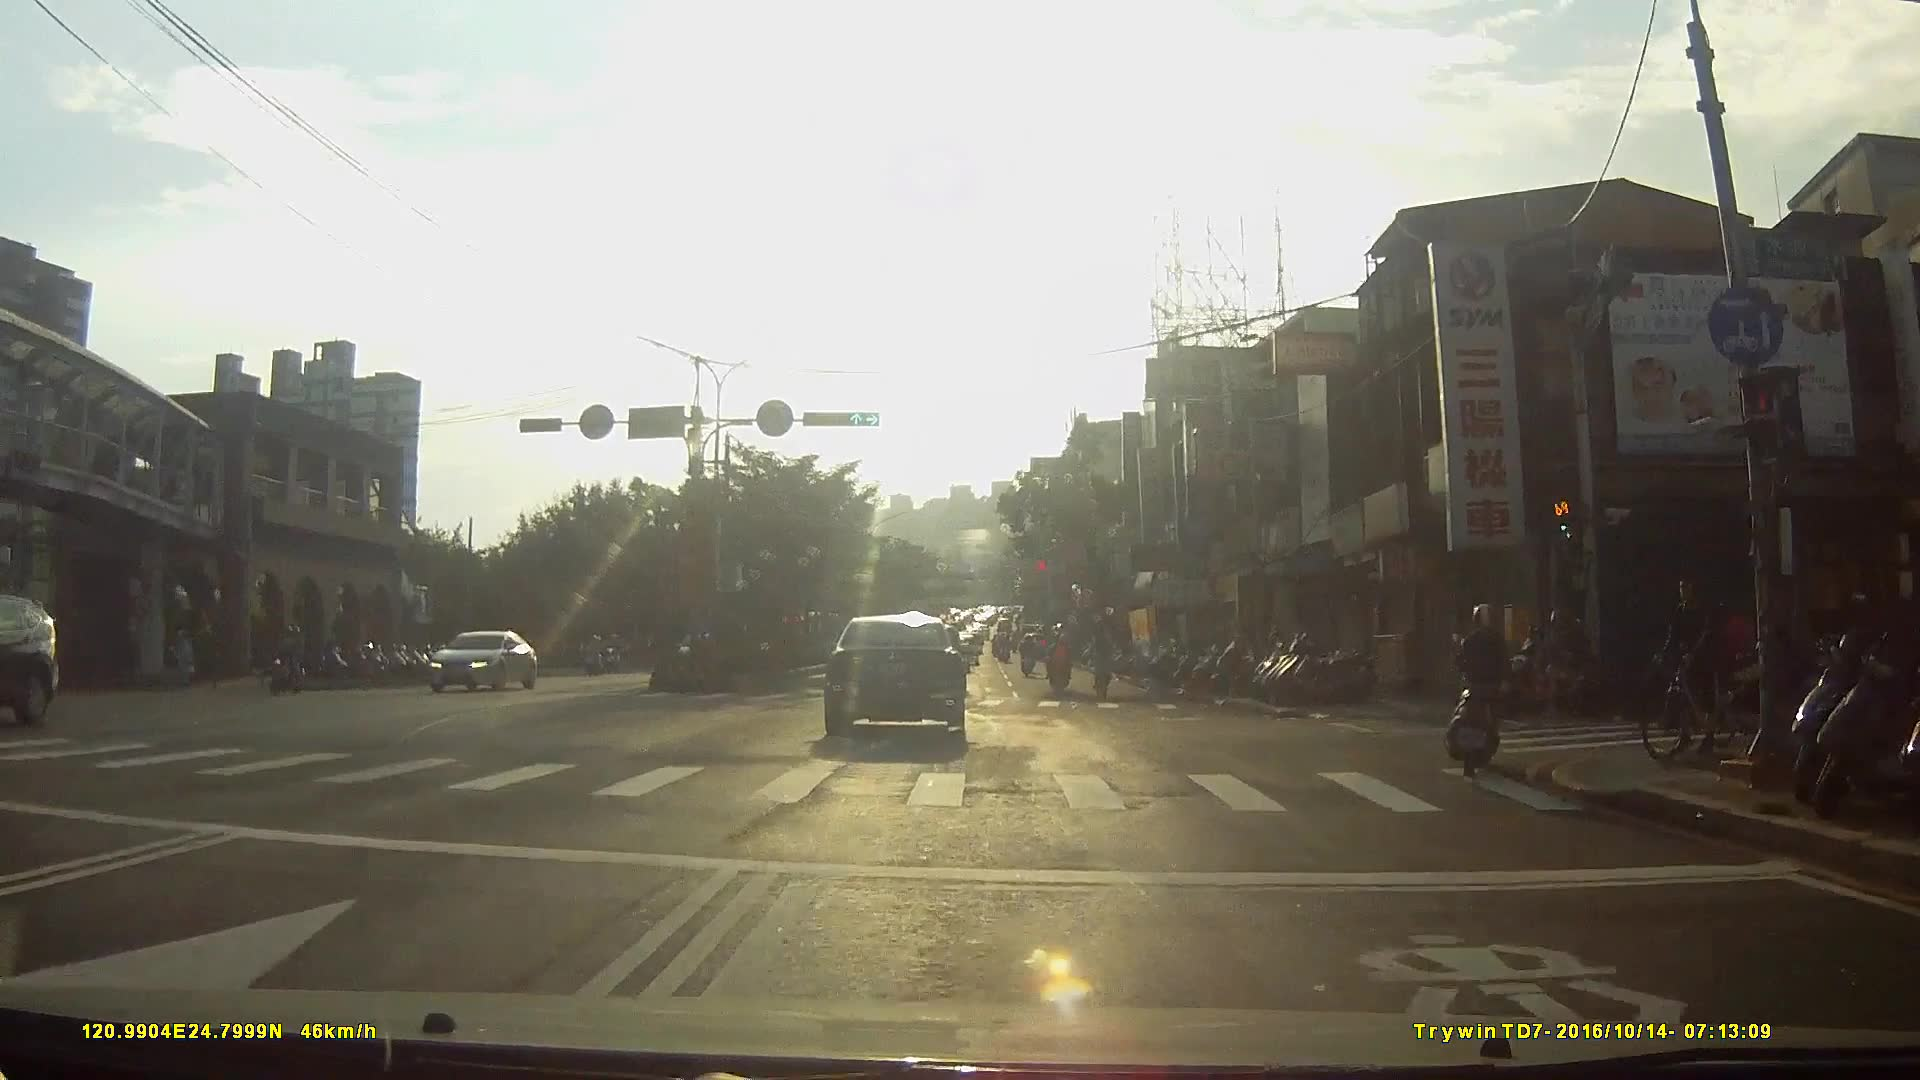rider: (1638, 566, 1768, 767), (1447, 602, 1518, 778), (265, 624, 305, 687), (1045, 630, 1078, 696), (1018, 632, 1040, 681)
vehicle: (822, 609, 983, 752), (1, 586, 73, 726), (426, 626, 535, 689)
